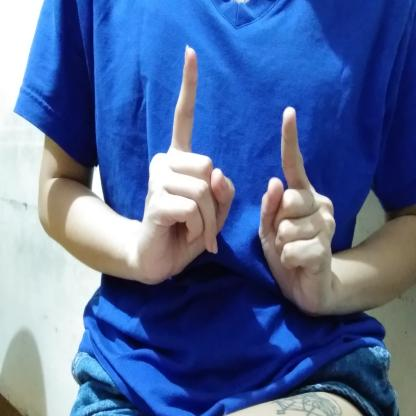morning: (139, 41, 340, 322)
